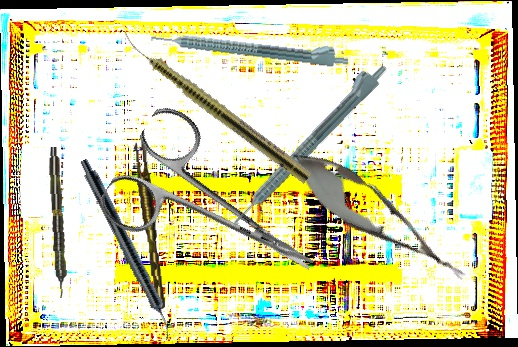Handpiece: (116, 29, 314, 185), (221, 54, 392, 230), (74, 156, 180, 342), (150, 22, 350, 69), (47, 146, 68, 299)
Iris Scissors: (92, 100, 344, 325)
Micro Scissor: (277, 135, 481, 299)
Tissue Forceps: (133, 138, 166, 311)
